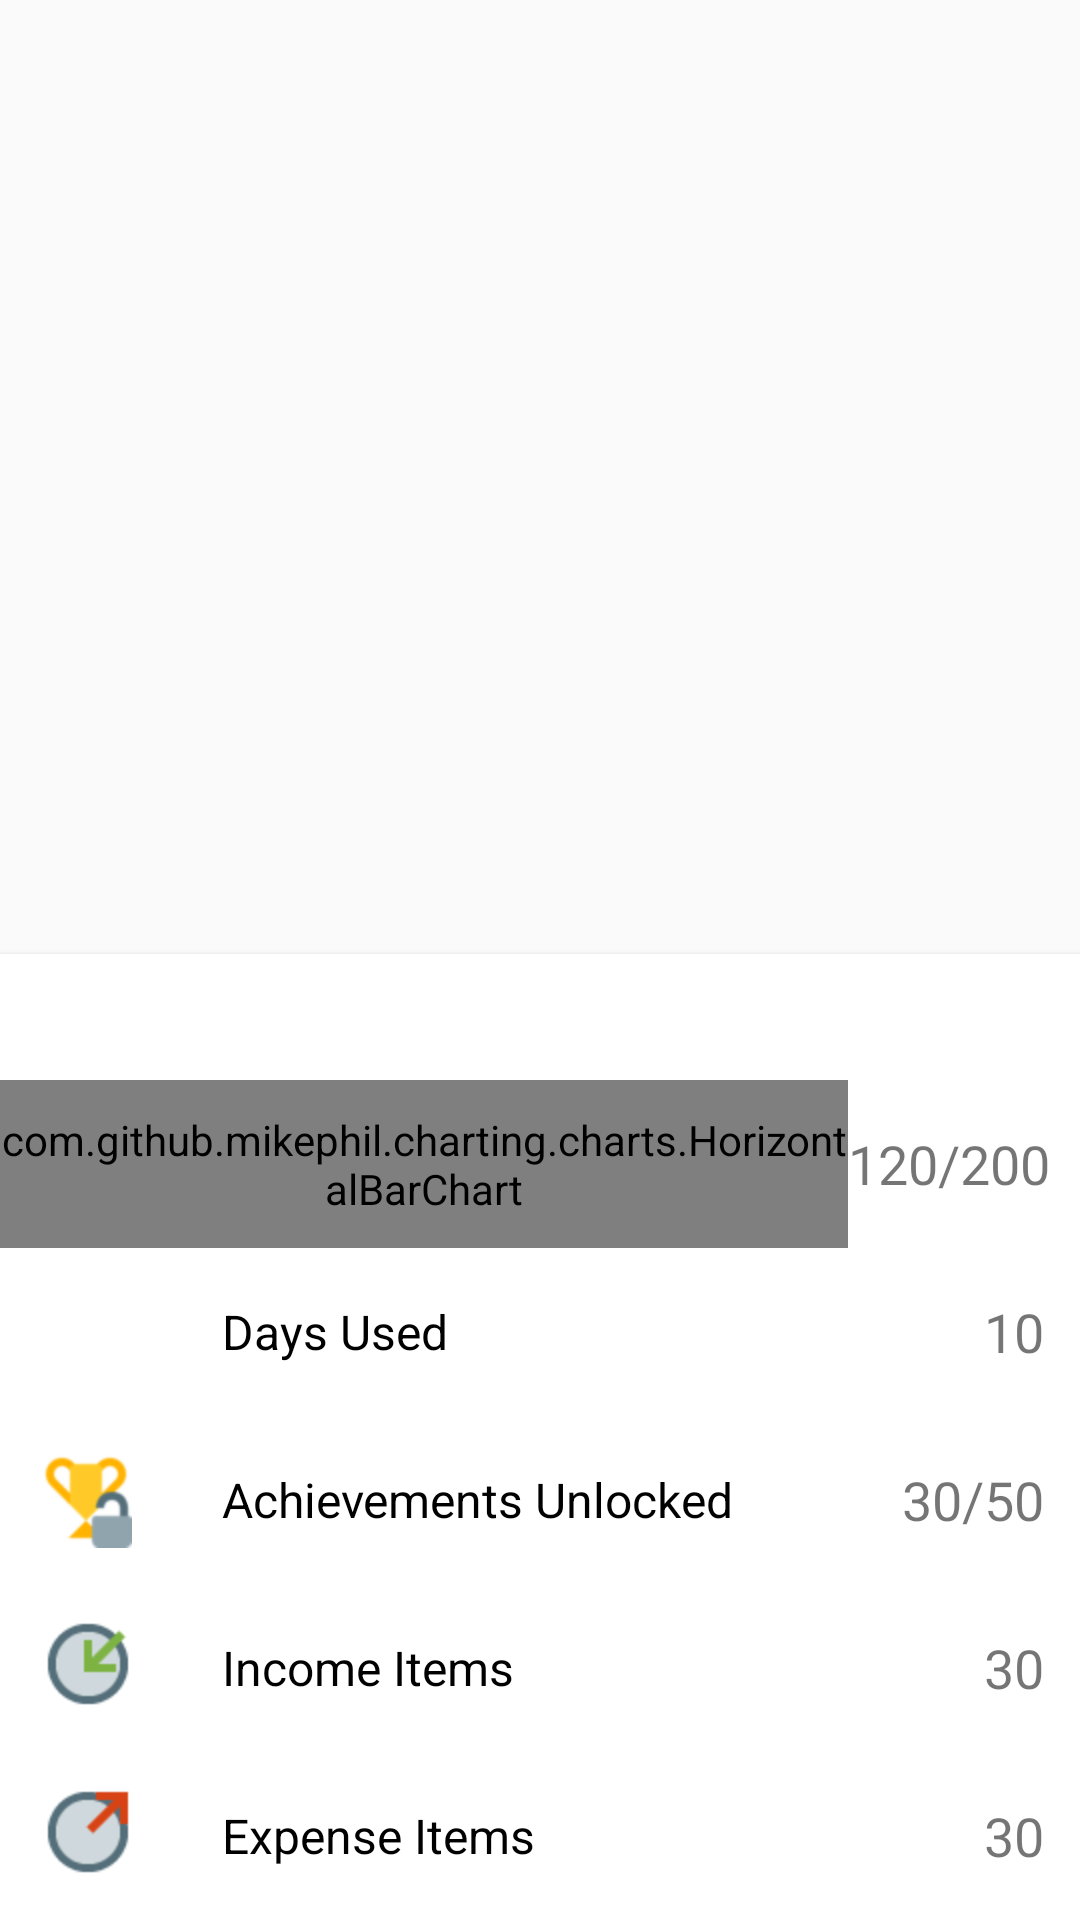

Where to tap for icons on this 1080px x 1920px app screen, as point (x, y):
view expense: point (88, 1832)
view income: point (88, 1664)
